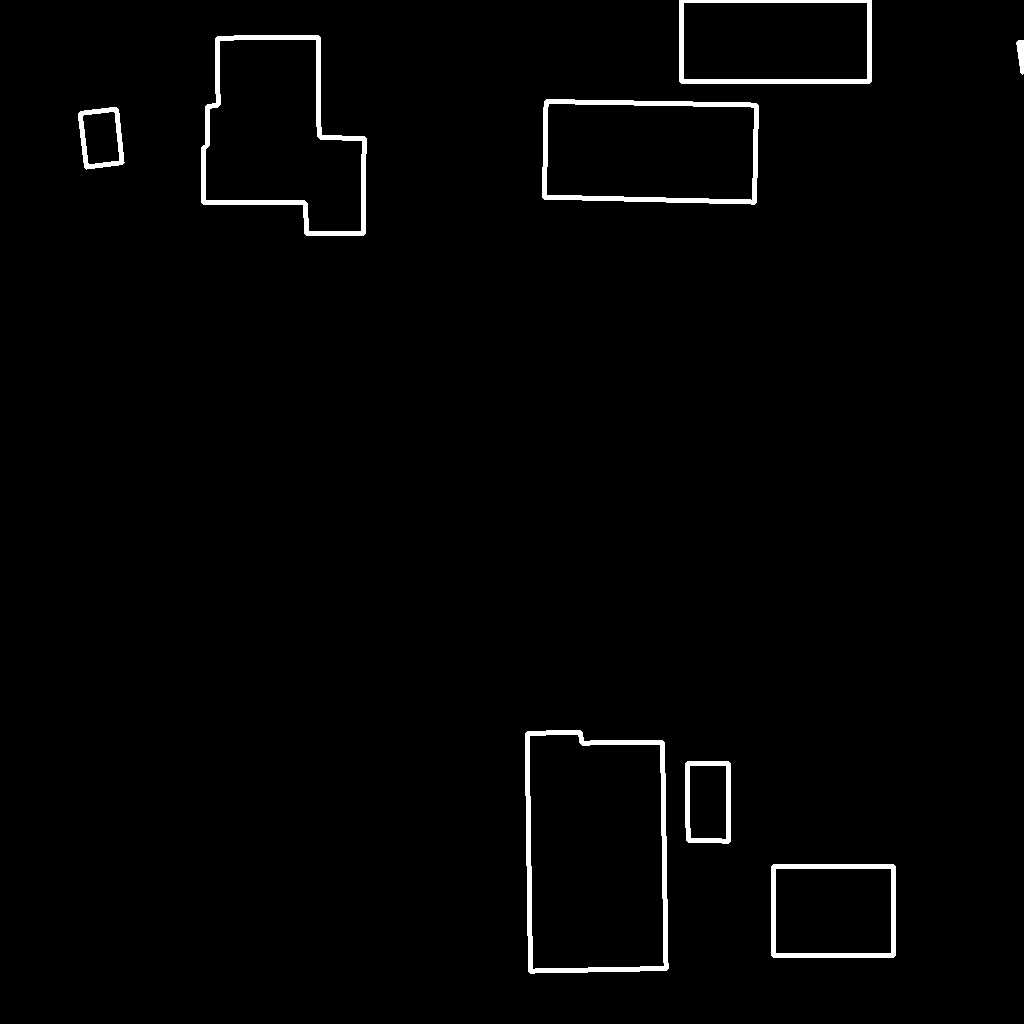building: (527, 732, 667, 972), (203, 37, 365, 234), (544, 101, 758, 203), (681, 0, 871, 82), (773, 866, 895, 956), (687, 763, 730, 842), (80, 109, 123, 168), (1018, 42, 1024, 77)
